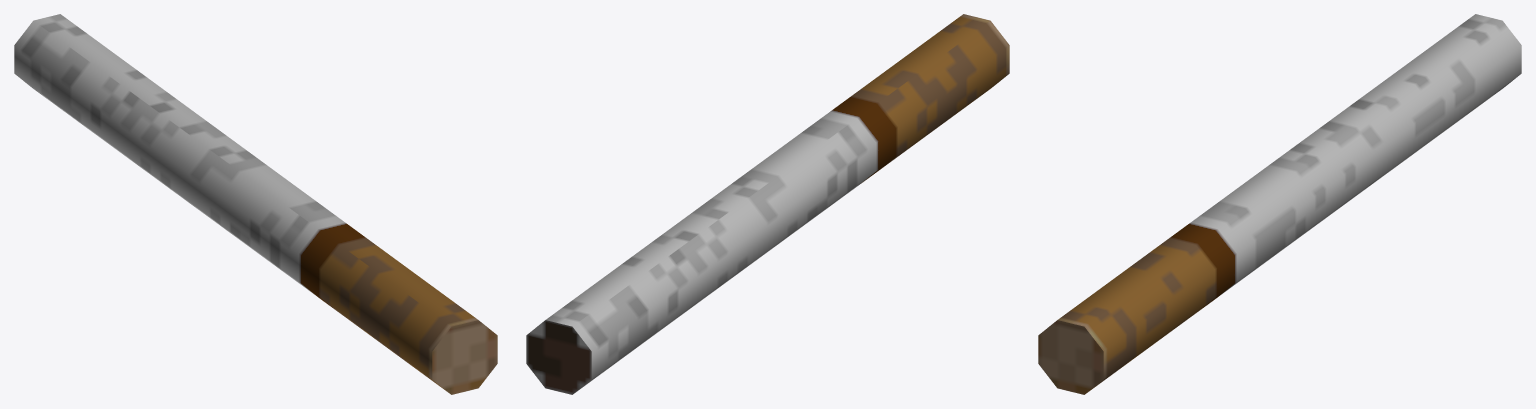
The model's file is Ciragette.fbx.
3 renders of one model, left to right at view 1: azimuth 30°, elevation 25°; view 2: azimuth 150°, elevation 25°; view 3: azimuth 330°, elevation 25°, orthographic.
Parts seen in each view (by area): view 1: Cigarette; view 2: Cigarette; view 3: Cigarette.
Part boxes in pixels (x1,y1,x2,y2): Cigarette: [14, 14, 497, 394]; Cigarette: [526, 14, 1009, 394]; Cigarette: [1038, 14, 1521, 394].
Size of the model in its own units: 0.00739 by 0.00739 by 0.082.
